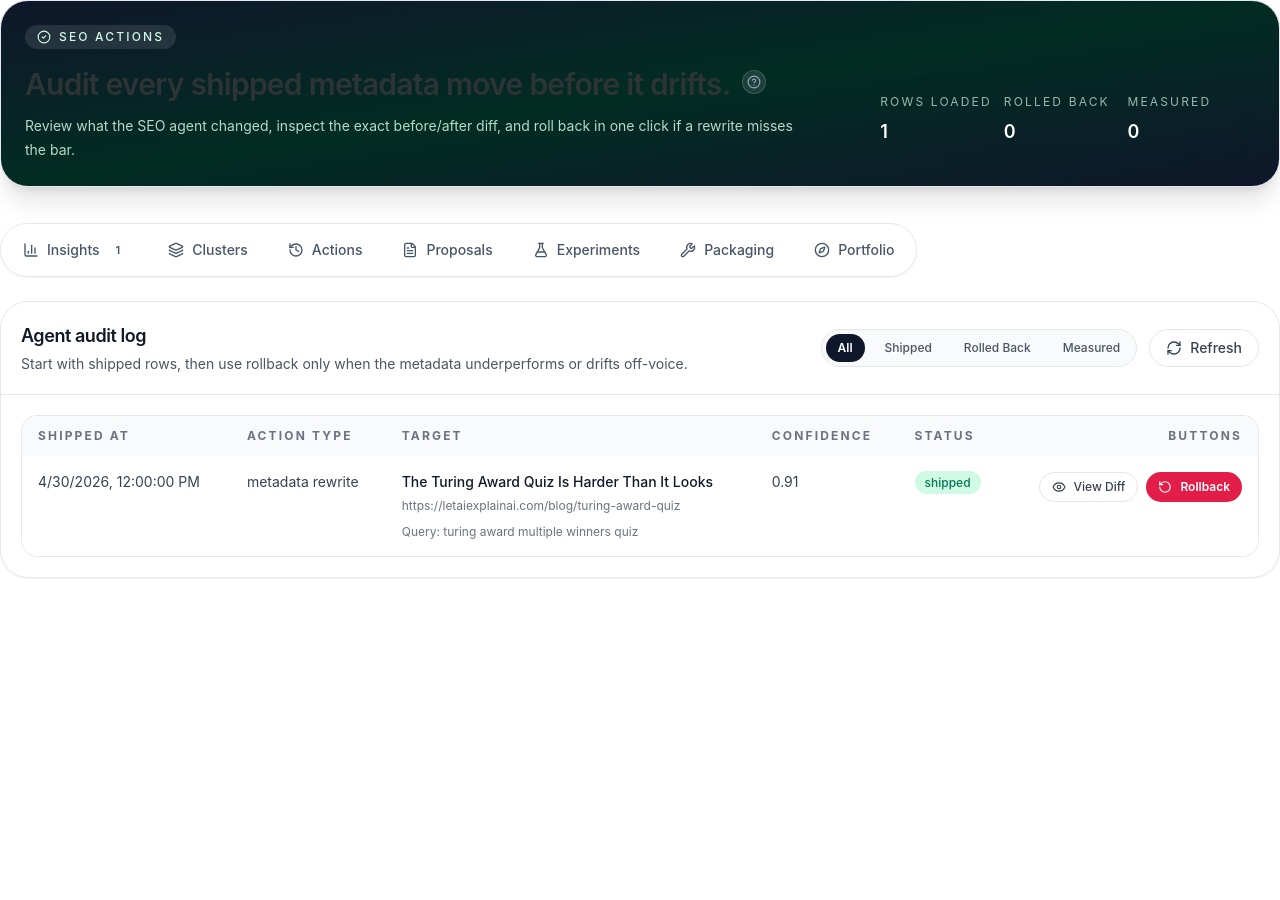
it: SeoActionsPage › rolls back an action after confirm and refreshes the list
Expected: the text "The Turing Award Quiz Is Harder Than It Looks" is shown, x1=402 y1=472 x2=722 y2=492
Step 1. Click the button "Rollback" → (1194, 487), box x1=1146 y1=472 x2=1242 y2=502
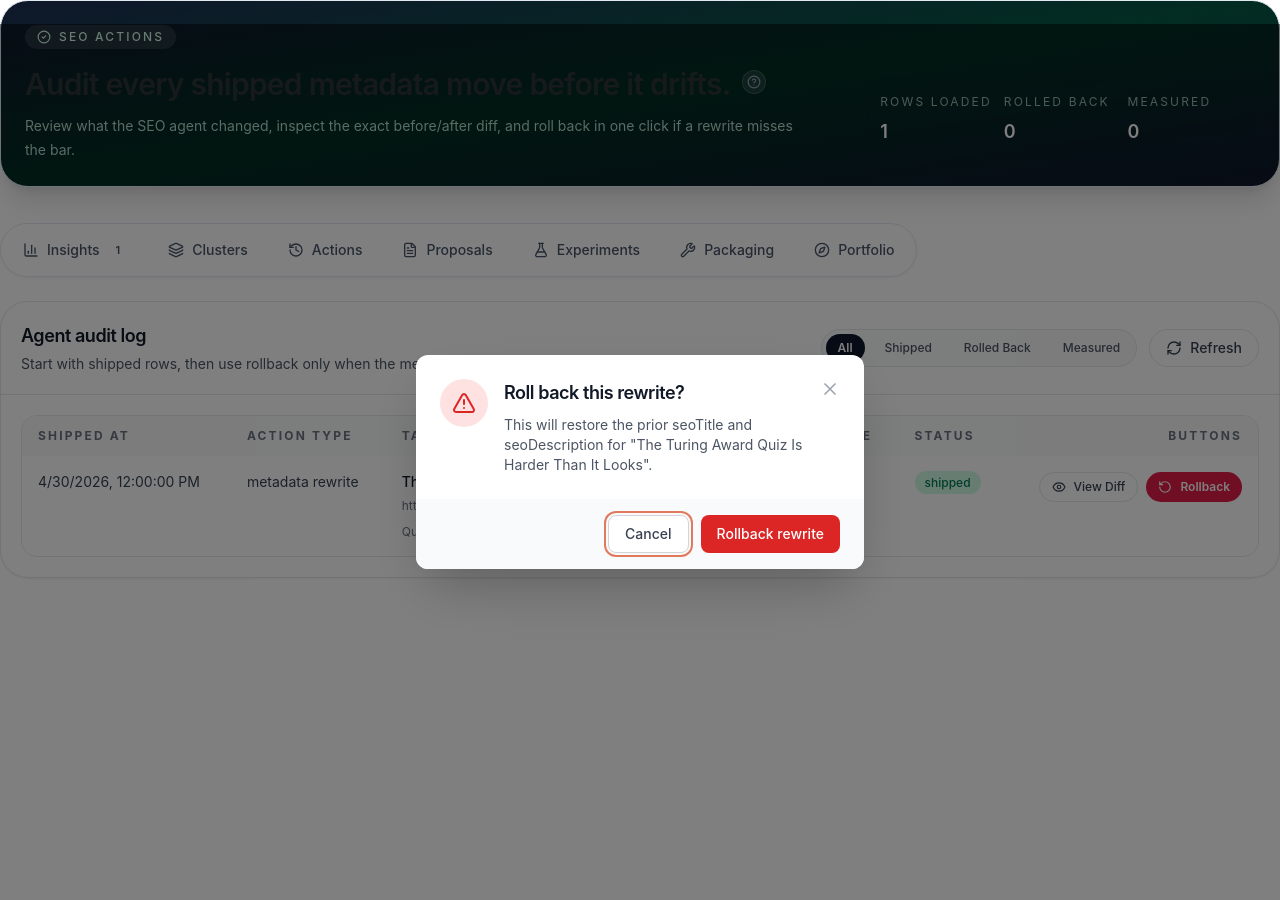
Result: the heading "Roll back this rewrite?" is shown at x1=504 y1=382 x2=684 y2=403
Step 2. Click the button "Rollback rewrite" → (770, 534), box x1=701 y1=515 x2=840 y2=553
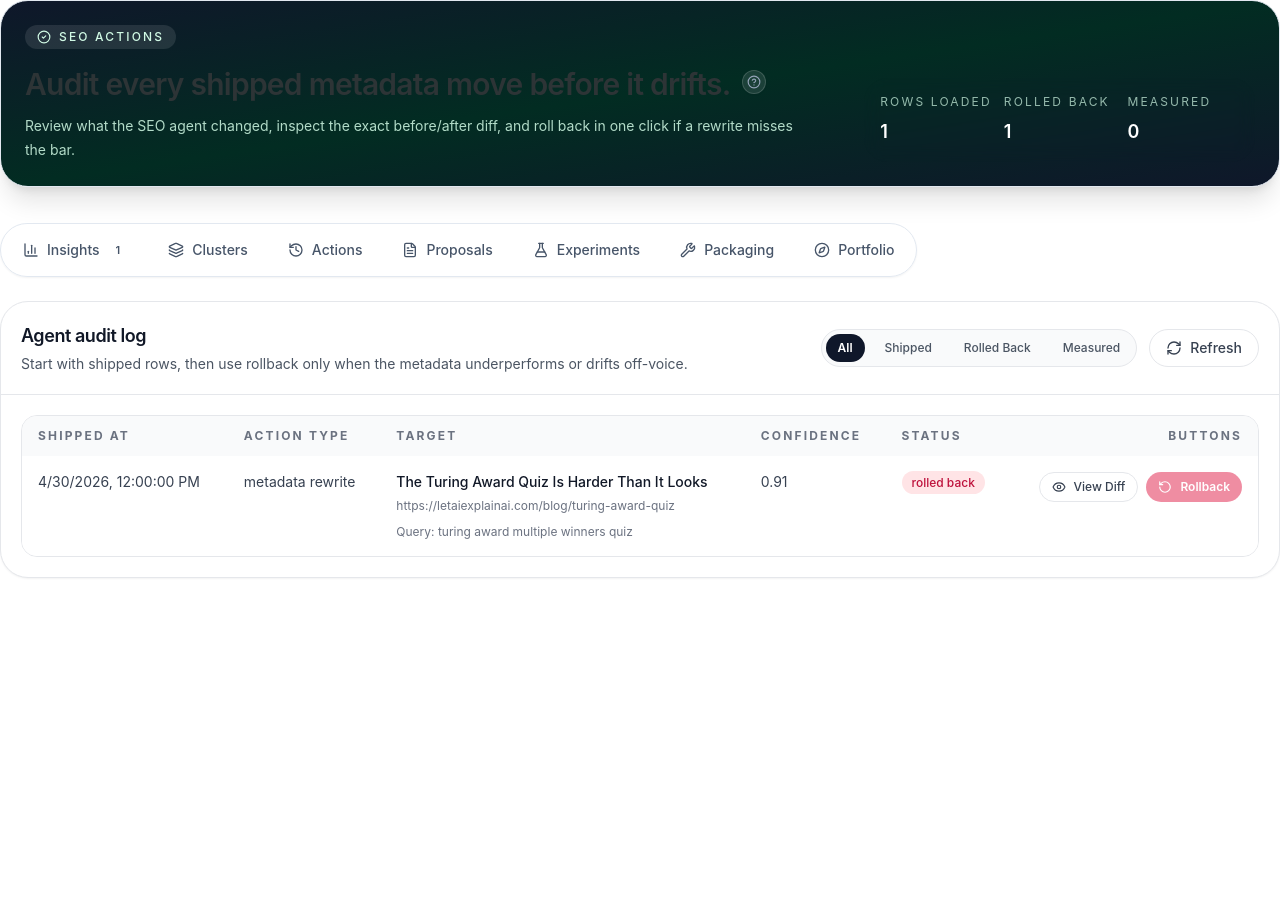
Result: the text "rolled back" is shown at x1=902 y1=471 x2=985 y2=494
